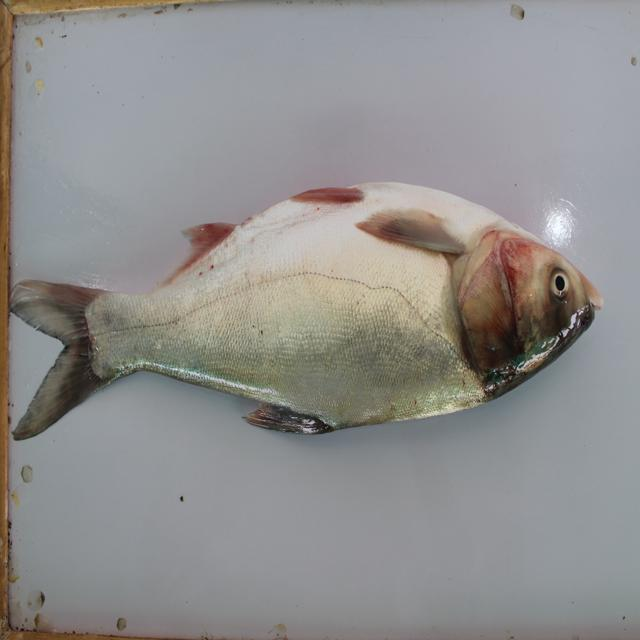SilverCarp: (6, 200, 608, 468)
